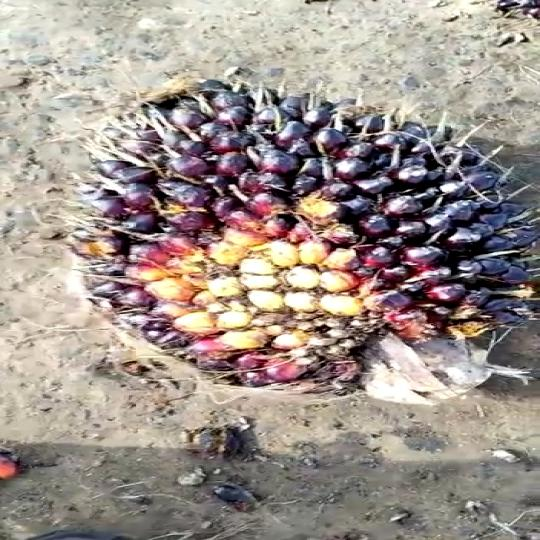mentah: (63, 50, 538, 424)
